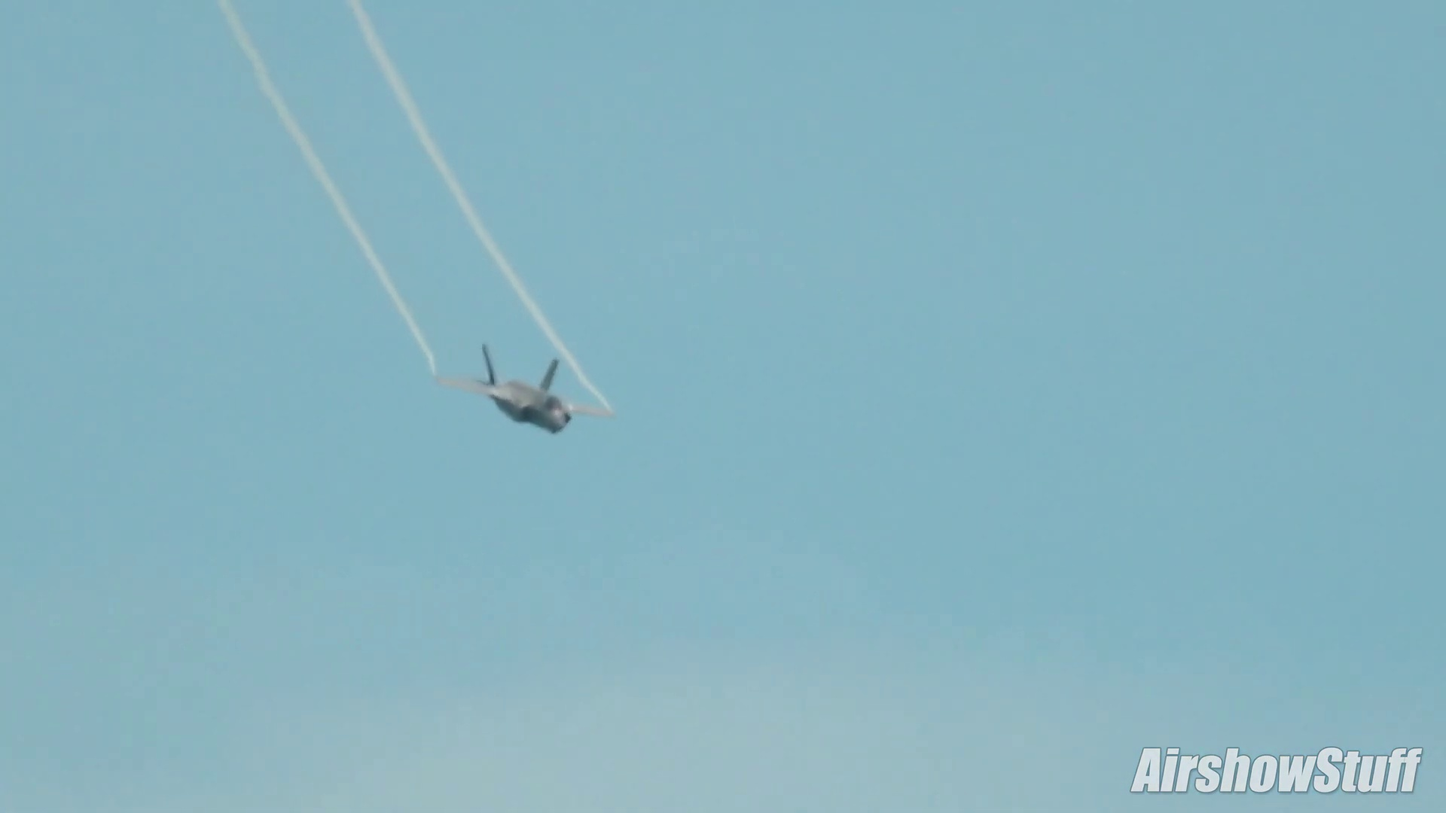F35: (426, 336, 622, 443)
